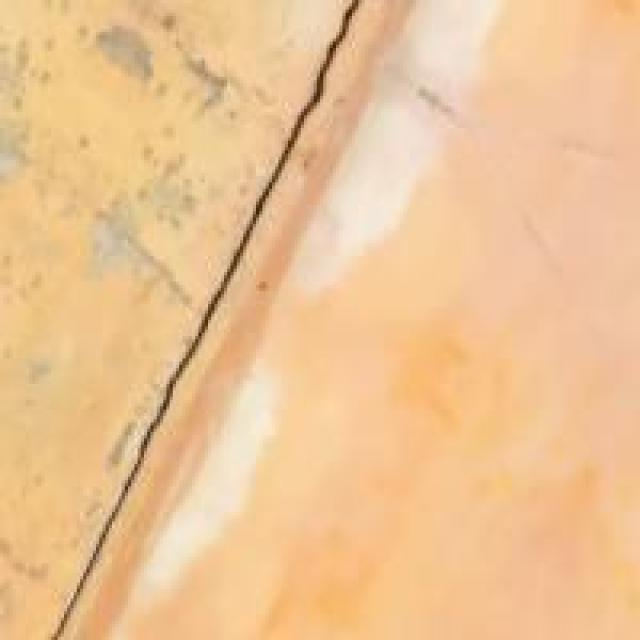crack: (45, 0, 390, 637)
